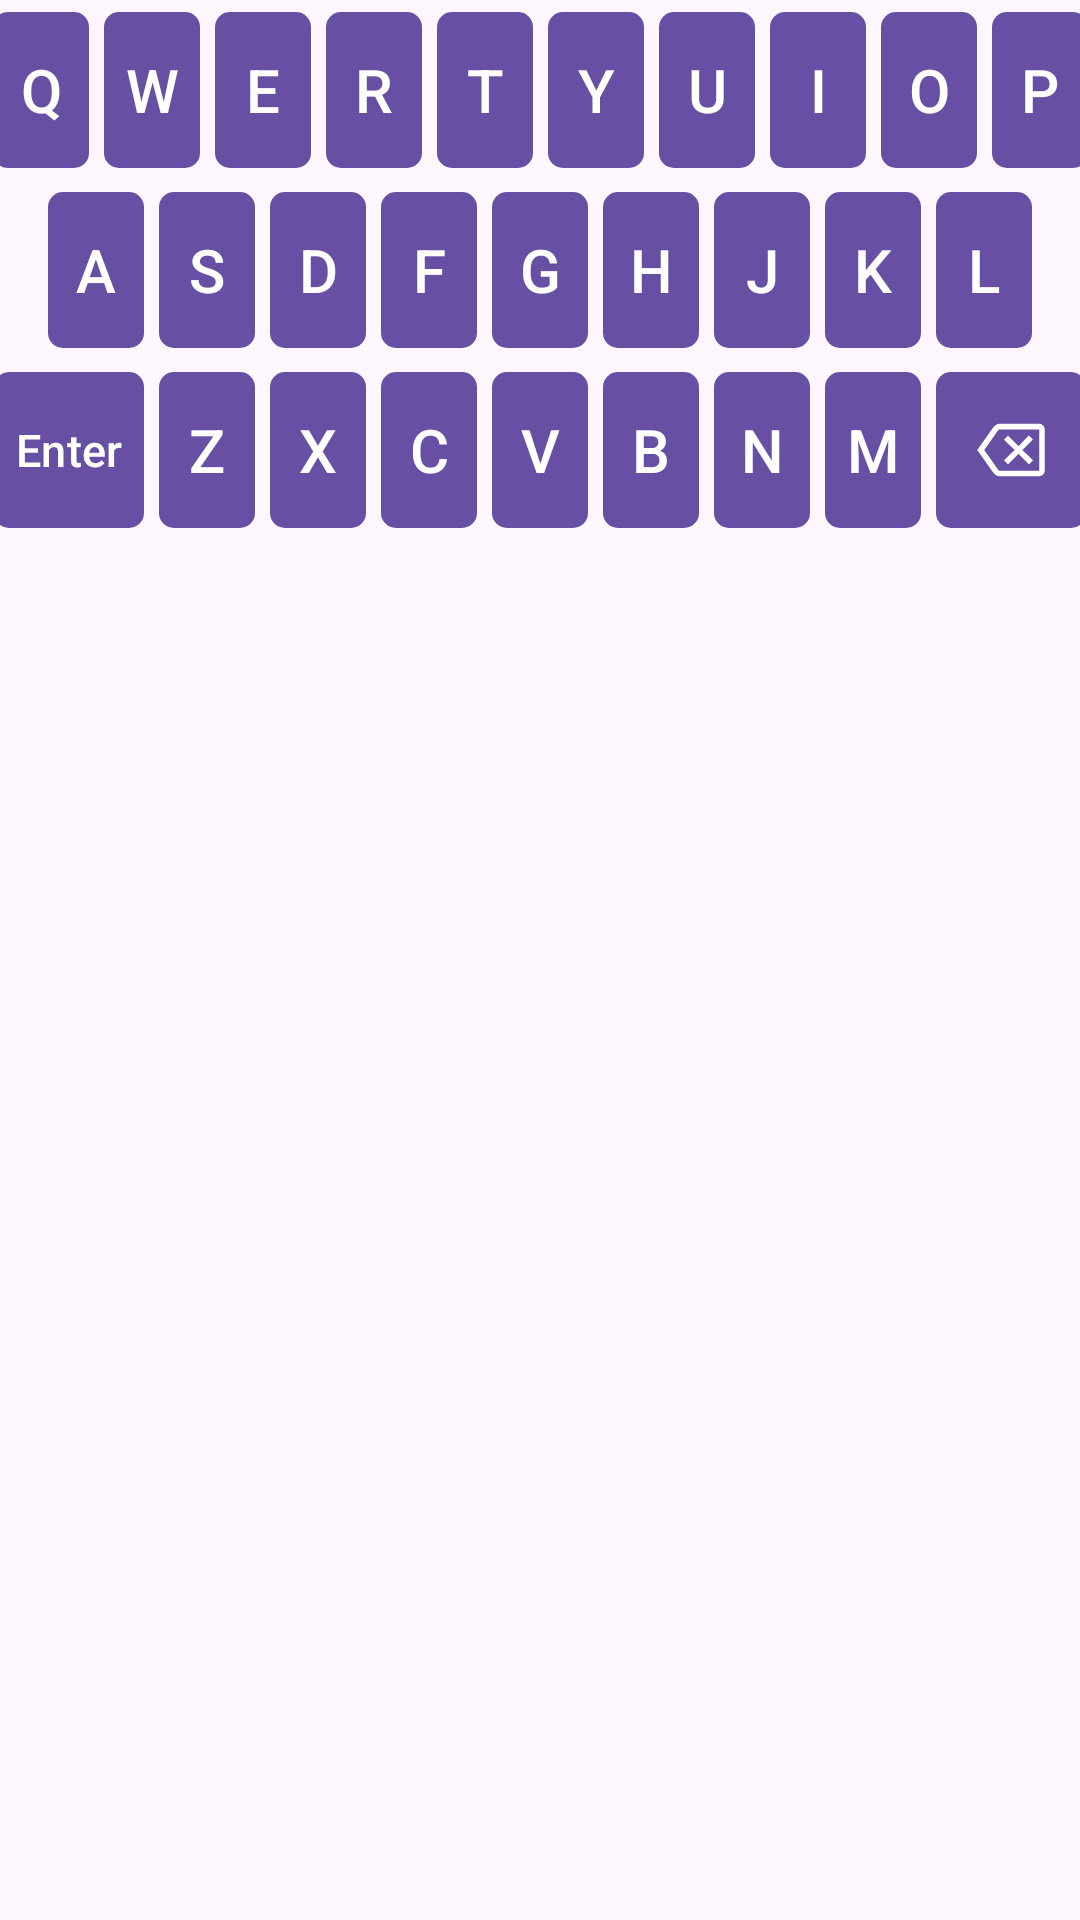

Icon bounding boxes for this 1080 × 1920 phone screenshot, format region(x1, y1, x2, y2):
backspace: region(936, 372, 1080, 528)
